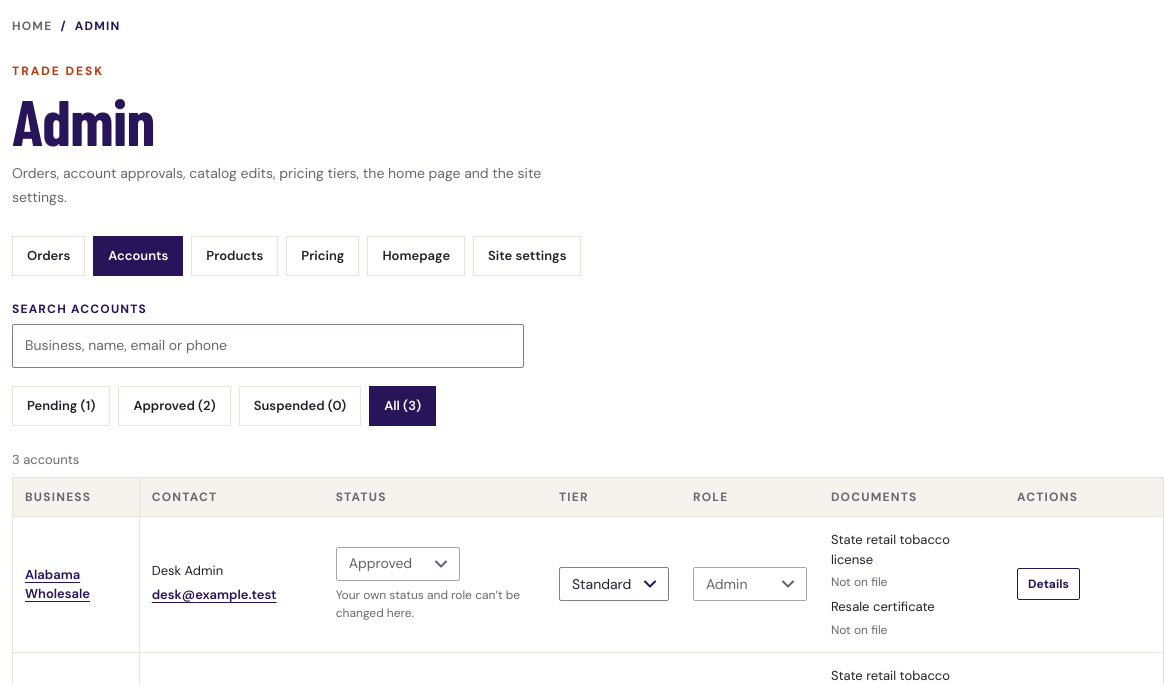
it: role changes (AW-203) › the admin’s own role can’t be changed: the select is locked and nothing is asked or sent
Select "Customer" in the dropdown named "Role for Alabama Wholesale": [750, 584] box [693,567,807,601]
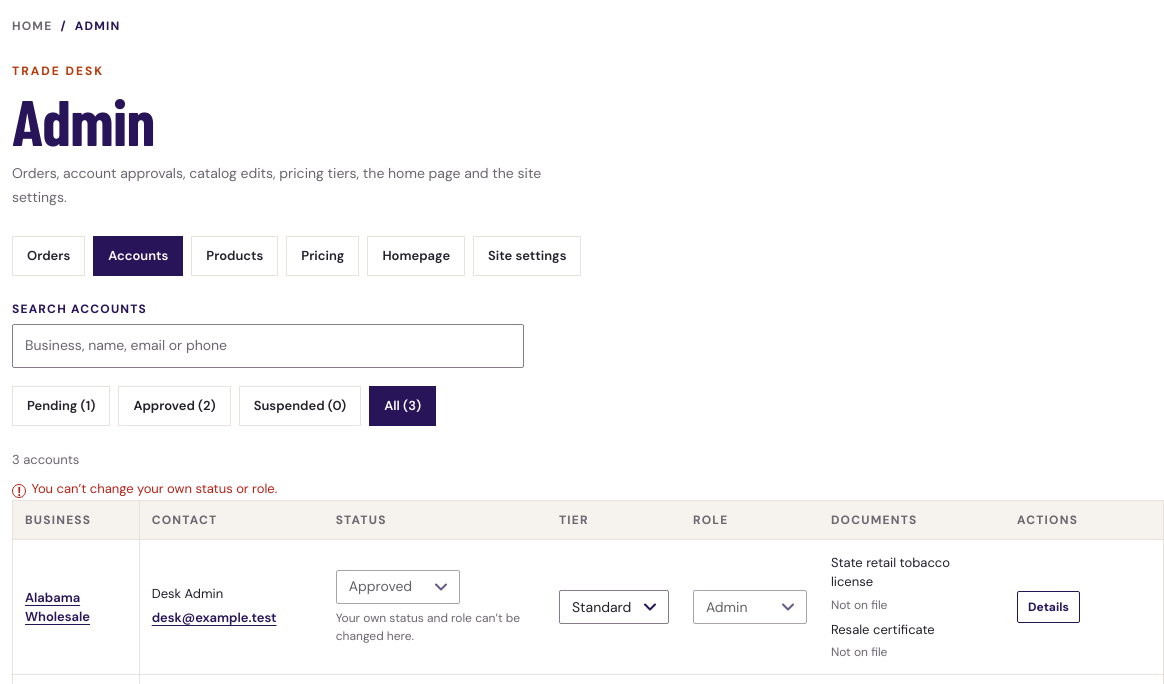
expect the message reads "You can’t change your own status or role.": met, box [32,480,277,497]
